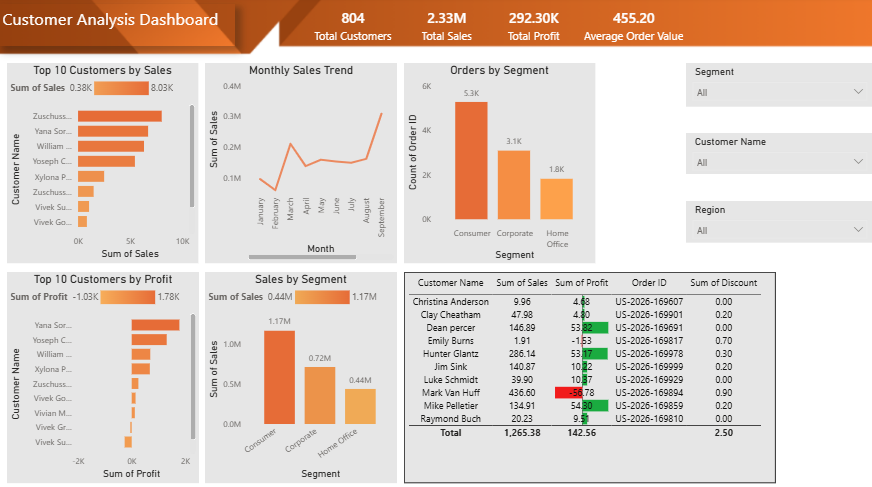

Layout of this report page (visuals, bound fields, positions):
{"tool":"powerbi","page":{"name":"Page 3","canvas":[1280,720],"ordinal":2},"visuals":[{"type":"barChart","title":"Top 10 Customers by Sales","fields":{"Category":["samplesuperstore.Customer Name"],"Y":["Sum(samplesuperstore.Sales)"]},"box":[11.7,96.6,279.5,292.7],"z":0},{"type":"barChart","title":"Top 10 Customers by Profit","fields":{"Category":["samplesuperstore.Customer Name"],"Y":["Sum(samplesuperstore.Profit)"]},"box":[11.7,402.4,281,308.8],"z":1000},{"type":"lineChart","title":"Monthly Sales Trend","fields":{"Category":["samplesuperstore.Order Date.Variation.Date Hierarchy.Month"],"Y":["Sum(samplesuperstore.Sales)"]},"box":[301.5,96.6,281,292.7],"z":2000},{"type":"columnChart","title":" Sales by Segment","fields":{"Category":["samplesuperstore.Segment"],"Y":["Sum(samplesuperstore.Sales)"]},"box":[301.5,402.4,281,308.8],"z":3000},{"type":"clusteredColumnChart","title":" Orders by Segment","fields":{"Category":["samplesuperstore.Segment"],"Y":["CountNonNull(samplesuperstore.Order ID)"]},"box":[592.7,96.6,279.5,292.7],"z":4000},{"type":"tableEx","fields":{"Values":["samplesuperstore.Customer Name","Sum(samplesuperstore.Sales)","Sum(samplesuperstore.Profit)","samplesuperstore.Order ID","Sum(samplesuperstore.Discount)"]},"box":[592.7,402.4,544.4,308.8],"z":5000},{"type":"cardVisual","fields":{"Data":["samplesuperstore.Total Customers"]},"box":[443.4,10.2,149.3,61.5],"z":6000},{"type":"cardVisual","fields":{"Data":["samplesuperstore.Total Sales"]},"box":[592.7,10.2,125.9,61.5],"z":7000},{"type":"cardVisual","fields":{"Data":["samplesuperstore.Total Profit"]},"box":[718.5,10.2,128.8,61.5],"z":8000},{"type":"cardVisual","fields":{"Data":["samplesuperstore.Average Order Value"]},"box":[847.3,10.2,163.9,61.5],"z":9000},{"type":"textbox","box":[0,10.2,345.4,61.5],"z":10000},{"type":"slicer","fields":{"Values":["samplesuperstore.Segment"]},"box":[1005.4,96.6,275.1,64.4],"z":11000},{"type":"slicer","fields":{"Values":["samplesuperstore.Customer Name"]},"box":[1005.4,199,275.1,60],"z":12000},{"type":"slicer","fields":{"Values":["samplesuperstore.Region"]},"box":[1005.4,298.5,275.1,61.5],"z":13000}]}

Visuals, with their boxes in screenshot pixels (x1, y1, x2, y2), scaled from the page's 1280x720 canvas onto the 872x487 screenshot:
"Top 10 Customers by Sales" barChart: l=8, t=65, r=198, b=263
"Top 10 Customers by Profit" barChart: l=8, t=272, r=199, b=481
"Monthly Sales Trend" lineChart: l=205, t=65, r=397, b=263
" Sales by Segment" columnChart: l=205, t=272, r=397, b=481
" Orders by Segment" clusteredColumnChart: l=404, t=65, r=594, b=263
tableEx - samplesuperstore.Customer Name x Sum(samplesuperstore.Sales): l=404, t=272, r=775, b=481
cardVisual - samplesuperstore.Total Customers: l=302, t=7, r=404, b=48
cardVisual - samplesuperstore.Total Sales: l=404, t=7, r=490, b=48
cardVisual - samplesuperstore.Total Profit: l=489, t=7, r=577, b=48
cardVisual - samplesuperstore.Average Order Value: l=577, t=7, r=689, b=48
textbox: l=0, t=7, r=235, b=48
slicer - samplesuperstore.Segment: l=685, t=65, r=871, b=109
slicer - samplesuperstore.Customer Name: l=685, t=135, r=871, b=175
slicer - samplesuperstore.Region: l=685, t=202, r=871, b=244
